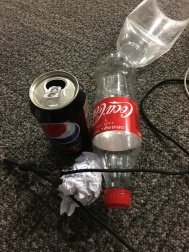bottle_red: (89, 45, 146, 212)
can_black: (20, 64, 94, 154)
paper_white: (55, 158, 104, 216)
